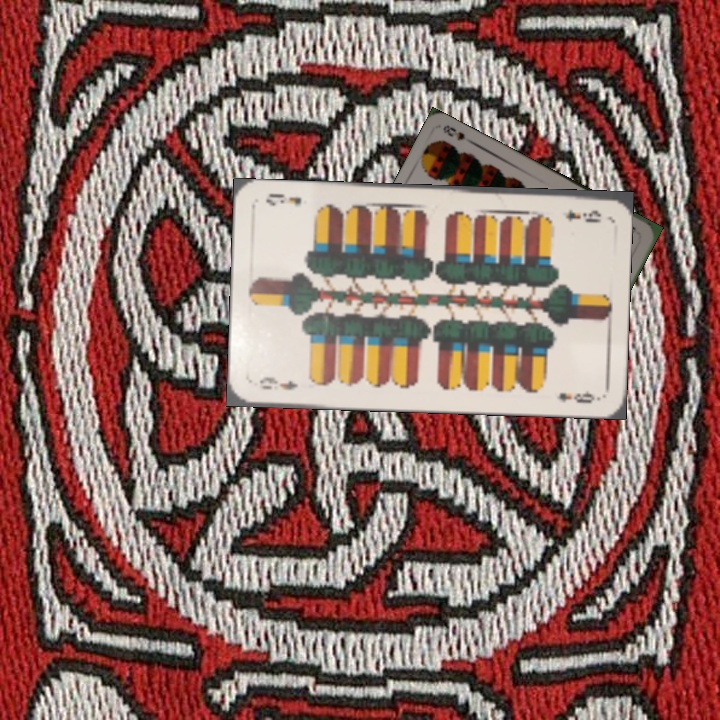E9: (255, 373, 301, 393), (561, 205, 604, 224)
